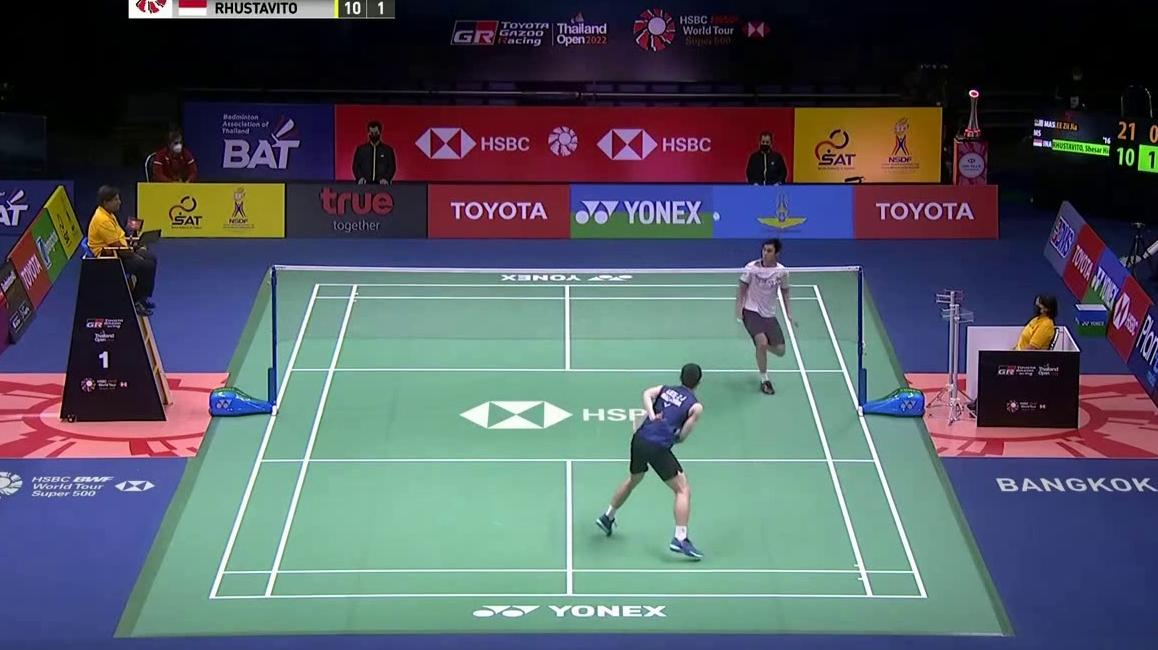racket: (634, 413, 677, 439)
